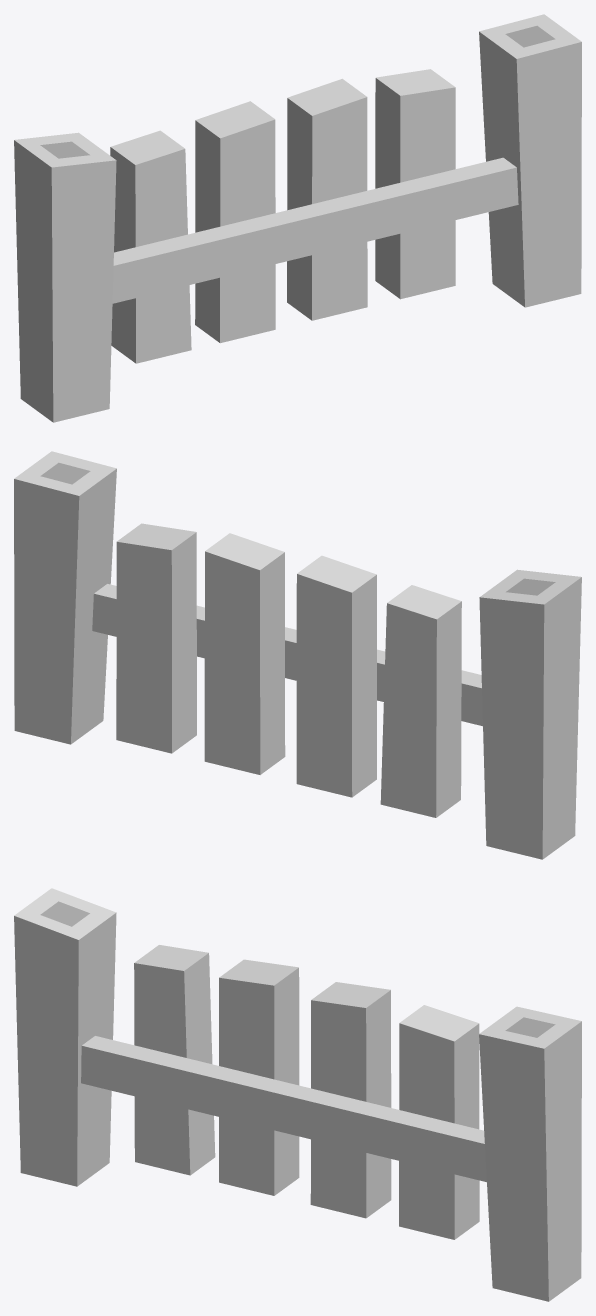
File: WhiteFence_01.fbx
The picture shows the model from 3 angles, top to bottom: view 1: azimuth 30°, elevation 25°; view 2: azimuth 150°, elevation 25°; view 3: azimuth 330°, elevation 25°; orthographic projection.
Visible parts, largest first — view 1: WhiteFence_01; view 2: WhiteFence_01; view 3: WhiteFence_01.
Part boxes in pixels (x1,y1,x2,y2): WhiteFence_01: (14,14,581,422); WhiteFence_01: (14,451,581,859); WhiteFence_01: (14,888,581,1301).
Size of the model in its own units: 7.44 by 3.45 by 1.05.
